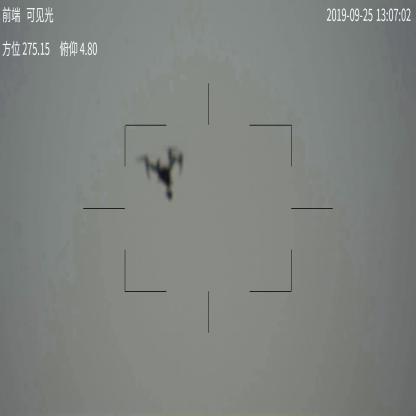uav: (142, 141, 184, 201)
